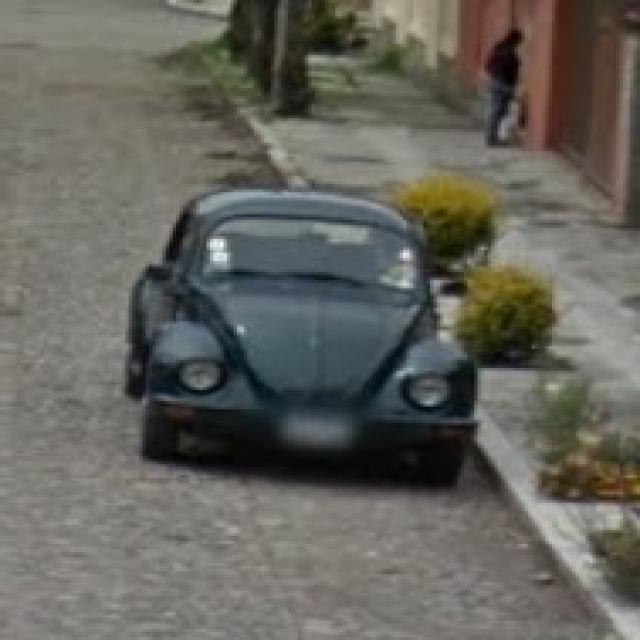car: (125, 188, 449, 470)
